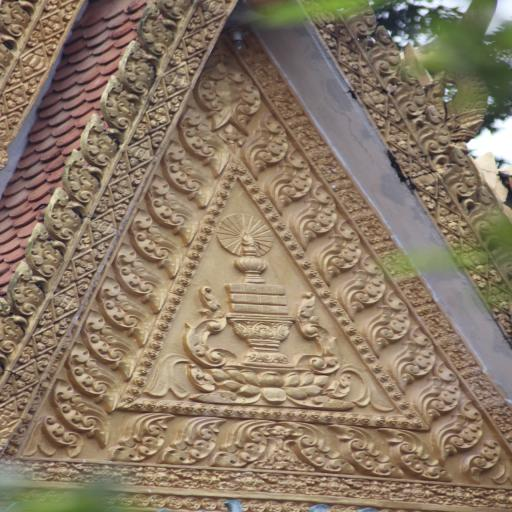lua: (288, 417, 350, 475), (381, 424, 445, 480), (213, 416, 276, 469), (338, 422, 398, 476), (110, 414, 173, 464), (169, 414, 232, 460), (89, 310, 135, 370), (146, 179, 196, 233), (343, 258, 388, 312), (114, 248, 160, 299), (180, 109, 224, 162), (319, 228, 365, 278), (164, 142, 208, 194), (246, 118, 290, 169), (369, 291, 409, 347), (70, 344, 114, 394), (134, 212, 177, 263), (37, 413, 78, 463), (103, 278, 143, 329), (298, 186, 334, 242), (394, 330, 433, 381), (59, 389, 102, 435), (440, 405, 482, 451), (465, 436, 510, 478), (140, 3, 178, 52), (46, 184, 80, 238), (277, 156, 310, 208), (442, 151, 478, 198), (370, 27, 405, 75), (422, 367, 454, 419), (64, 152, 97, 201), (25, 226, 60, 272), (123, 44, 156, 92), (102, 77, 134, 124), (416, 108, 447, 156), (6, 266, 39, 310), (395, 72, 427, 116), (476, 172, 502, 226), (90, 115, 118, 164), (1, 304, 23, 350), (353, 1, 378, 35)
